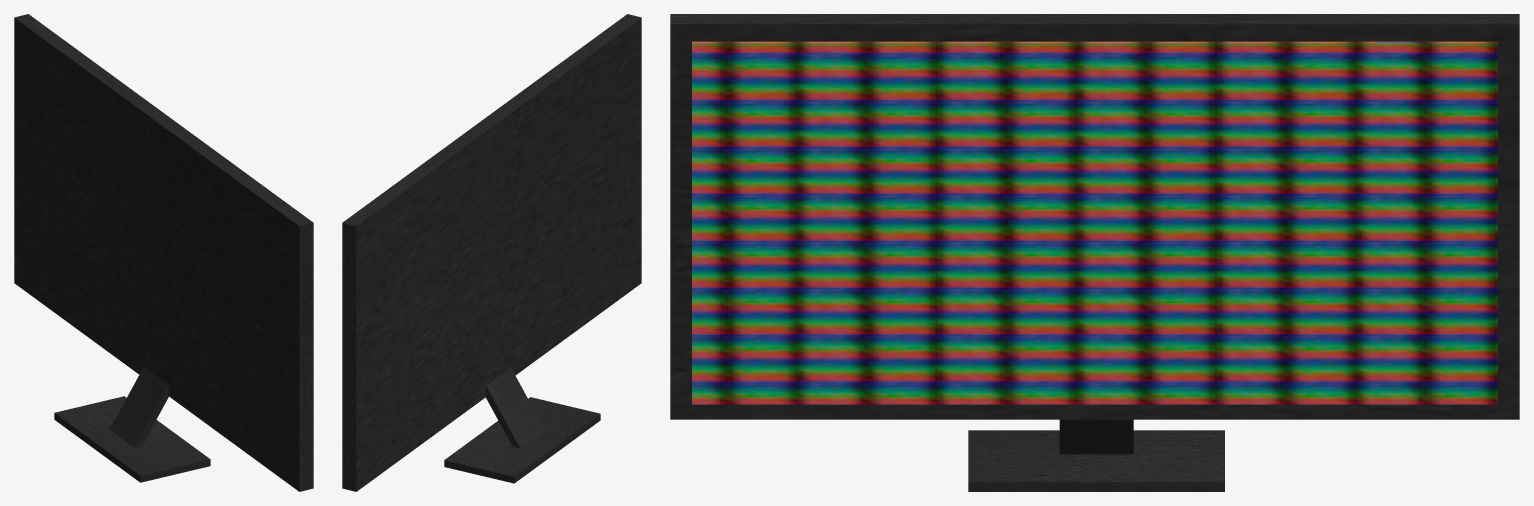
Rendered from Monitor one.fbx.
The picture shows the model from 3 angles, left to right: view 1: azimuth 30°, elevation 25°; view 2: azimuth 150°, elevation 25°; view 3: azimuth 270°, elevation 25°; orthographic projection. The views are drawn at different scales.
Visible parts, largest first — view 1: Cube, Cube.003, Cube.002; view 2: Cube, Cube.003, Cube.002; view 3: Cube.001, Cube, Cube.003, Cube.002.
Boxes of the visible parts, x1,y1,x2,y2 form: Cube: [14, 14, 313, 491]; Cube.003: [54, 396, 210, 482]; Cube.002: [109, 367, 168, 447]; Cube: [342, 14, 641, 491]; Cube.003: [444, 397, 600, 483]; Cube.002: [486, 368, 544, 448]; Cube.001: [692, 41, 1497, 404]; Cube: [670, 14, 1519, 419]; Cube.003: [968, 430, 1224, 491]; Cube.002: [1059, 419, 1133, 454].
Bounding box in the file's own units: 60.05 × 238 × 389.
